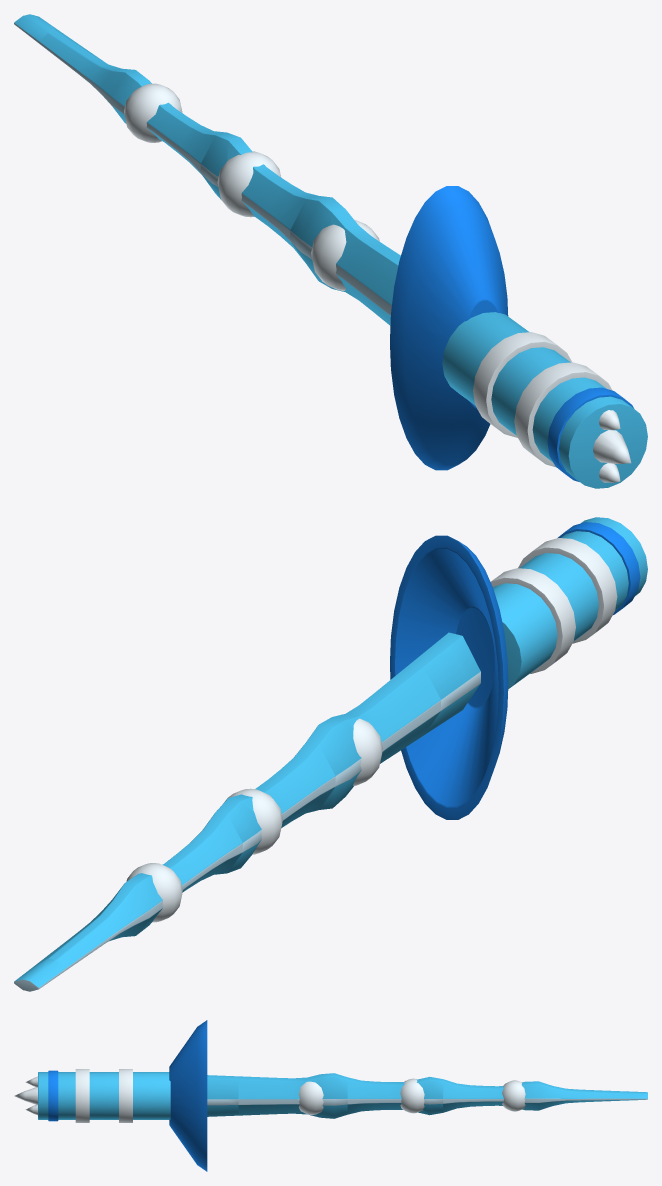
File: Sword_IcicleEstoc.glb
The picture shows the model from 3 angles, top to bottom: view 1: azimuth 30°, elevation 25°; view 2: azimuth 150°, elevation 25°; view 3: azimuth 270°, elevation 25°; orthographic projection. The views are drawn at different scales.
Visible parts, largest first — view 1: Sword_IcicleEstoc; view 2: Sword_IcicleEstoc; view 3: Sword_IcicleEstoc.
Boxes of the visible parts, x1,y1,x2,y2 form: Sword_IcicleEstoc: [14, 14, 647, 488]; Sword_IcicleEstoc: [14, 517, 647, 991]; Sword_IcicleEstoc: [14, 1020, 647, 1171].
Bounding box in the file's own units: 0.1089 × 0.2594 × 1.
Materials: 1 (1 with a texture image).
